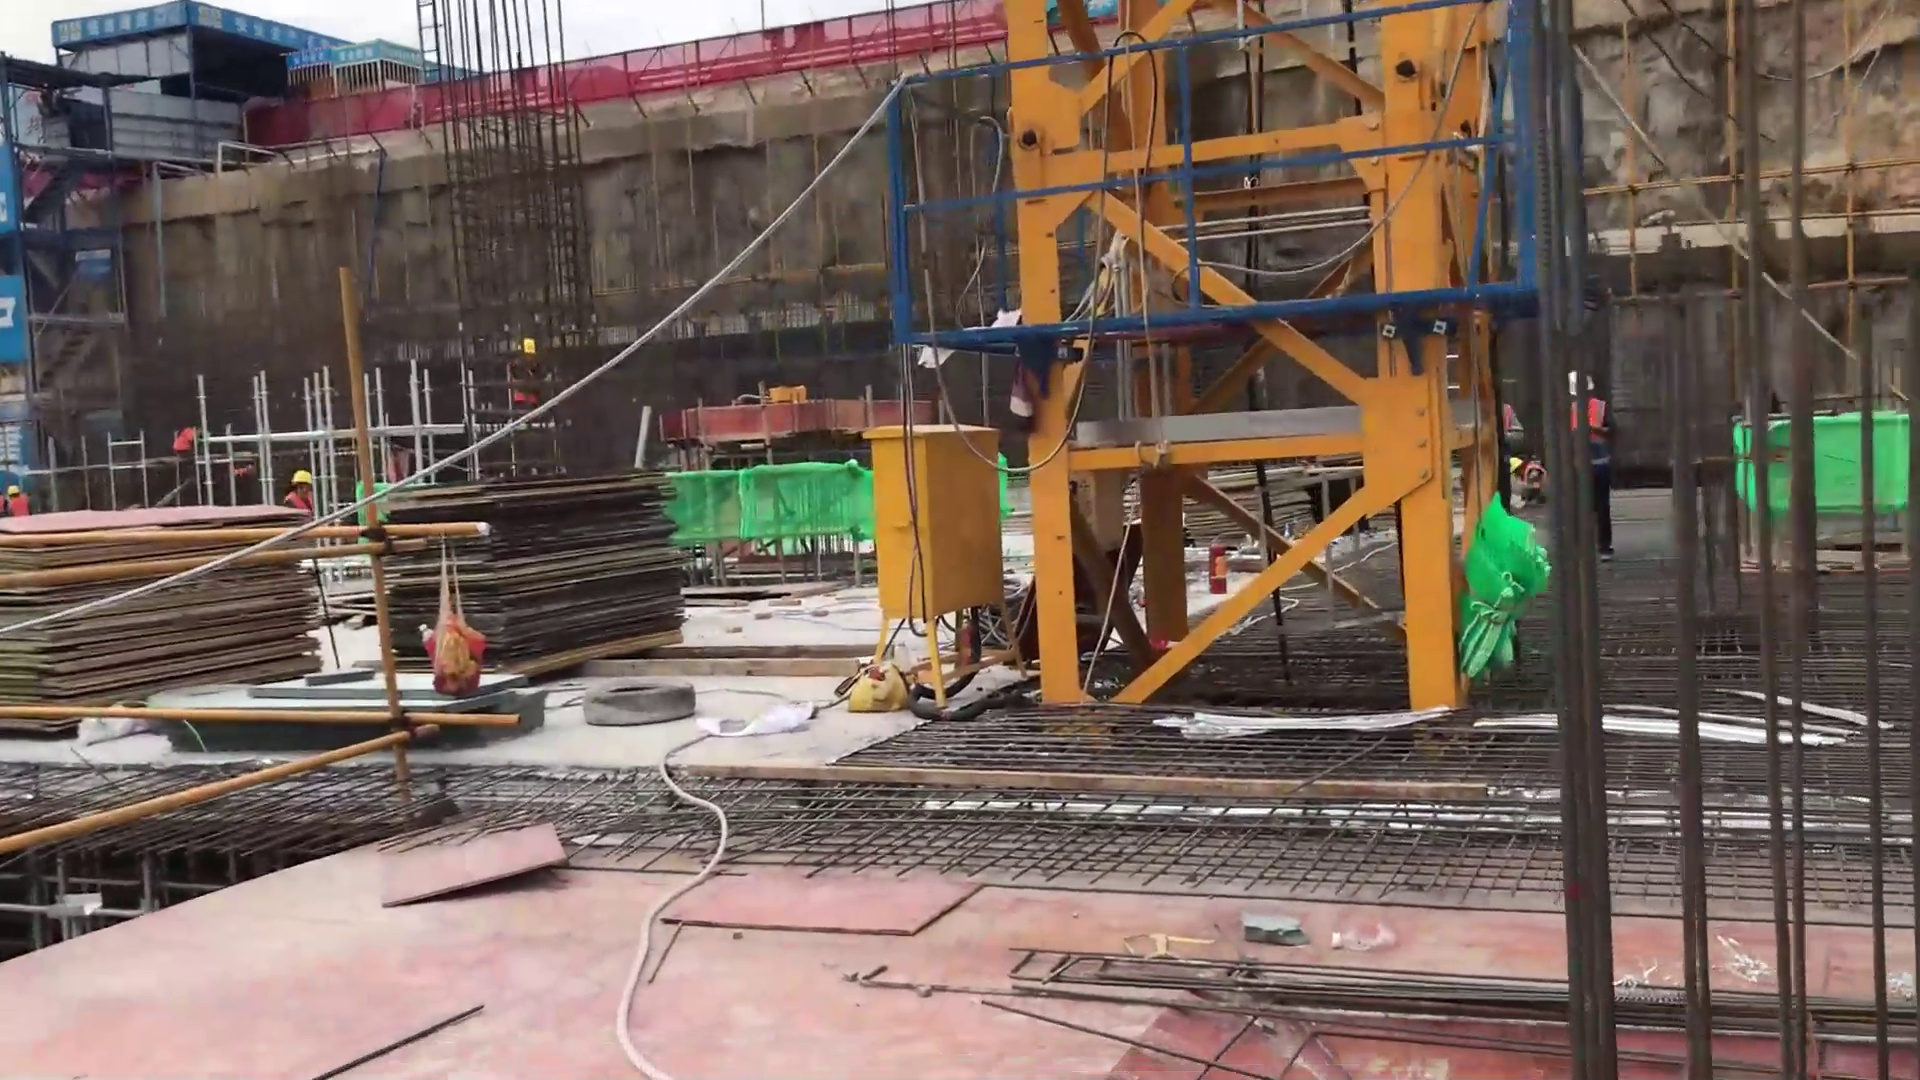helmet: (1563, 368, 1598, 391), (514, 336, 541, 360), (292, 470, 315, 486), (1511, 454, 1522, 472), (12, 485, 23, 495), (198, 422, 203, 441)
person: (1569, 366, 1617, 559), (508, 331, 551, 478), (1498, 403, 1524, 489), (287, 461, 323, 521), (1512, 456, 1552, 509), (169, 406, 204, 463), (9, 470, 38, 518), (1, 468, 3, 521)
vest: (1574, 400, 1611, 463), (512, 361, 544, 408), (1524, 460, 1549, 493), (1501, 407, 1515, 458), (173, 425, 195, 455), (289, 490, 315, 513), (10, 498, 32, 518)
